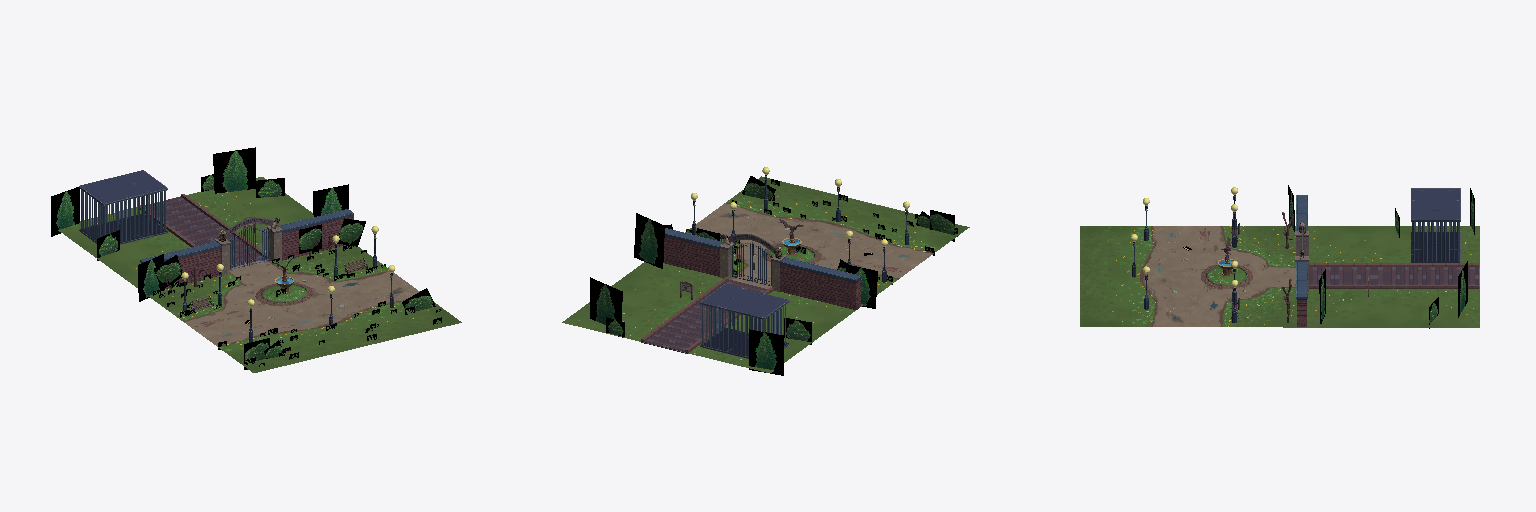
The picture shows the model from 3 angles: view 1: azimuth 30°, elevation 25°; view 2: azimuth 150°, elevation 25°; view 3: azimuth 270°, elevation 25°; orthographic projection.
Parts seen in each view (by area): view 1: model:object_2, model:object_4, model:object_1, model:object_3, model:object_0, model:object_5, model:object_6; view 2: model:object_2, model:object_4, model:object_1, model:object_5, model:object_3, model:object_0, model:object_6; view 3: model:object_2, model:object_4, model:object_5, model:object_1, model:object_6.
Boxes of the visible parts, box(x1,y1,x2,y2) form: model:object_2: box(58, 177, 461, 372); model:object_4: box(81, 190, 394, 342); model:object_1: box(51, 147, 348, 301); model:object_3: box(97, 174, 441, 366); model:object_0: box(154, 218, 435, 369); model:object_5: box(79, 170, 191, 306); model:object_6: box(164, 217, 351, 293); model:object_2: box(562, 176, 969, 372); model:object_4: box(663, 167, 909, 355); model:object_1: box(590, 213, 877, 375); model:object_5: box(700, 284, 789, 358); model:object_3: box(606, 179, 957, 344); model:object_0: box(665, 176, 954, 271); model:object_6: box(721, 219, 803, 258); model:object_2: box(1080, 226, 1479, 327); model:object_4: box(1131, 187, 1459, 326); model:object_5: box(1411, 188, 1460, 262); model:object_1: box(1288, 185, 1474, 323); model:object_6: box(1218, 212, 1305, 322).
Bounding box in the file's own units: 11.18 × 2.81 × 16.93.
7 materials, 6 textured.